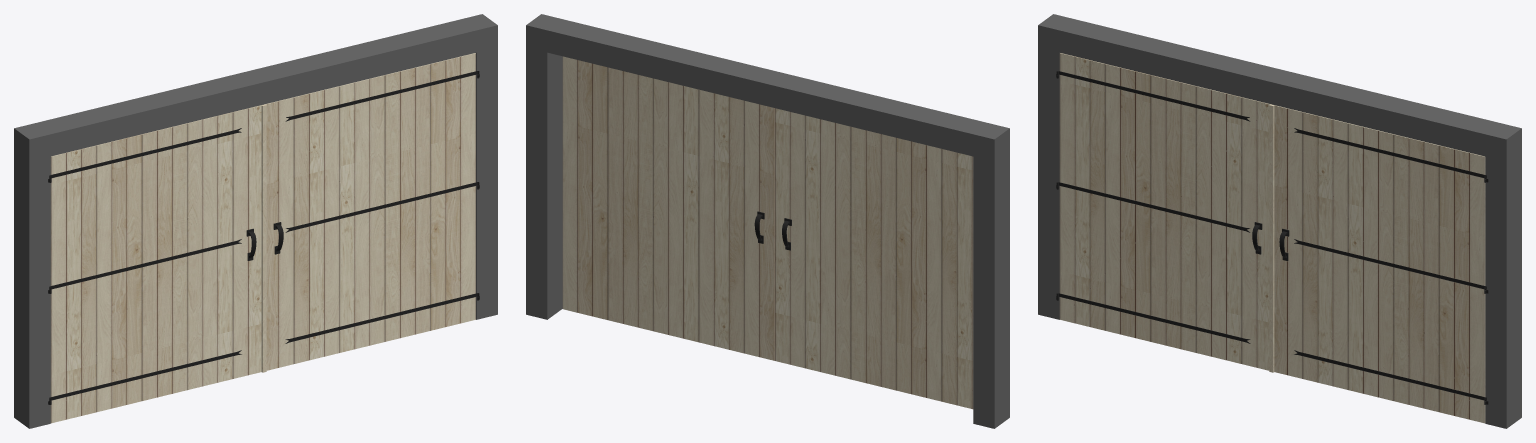
The model's file is sweethome3d-scopia-garage-door-293.glb.
3 renders of one model, left to right at view 1: azimuth 30°, elevation 25°; view 2: azimuth 150°, elevation 25°; view 3: azimuth 330°, elevation 25°, orthographic.
Visible parts, largest first — view 1: sweethome3d_opening_on_hinge_1_right-door_Cube.008, sweethome3d_opening_on_hinge_2_left-door_Cube.001, frame_Cube, sweethome3d_opening_on_hinge_1_large_hinges_Cube.009, sweethome3d_opening_on_hinge_2_large-hinges_Cube.007; view 2: sweethome3d_opening_on_hinge_1_right-door_Cube.008, sweethome3d_opening_on_hinge_2_left-door_Cube.001, frame_Cube; view 3: sweethome3d_opening_on_hinge_1_right-door_Cube.008, sweethome3d_opening_on_hinge_2_left-door_Cube.001, frame_Cube, sweethome3d_opening_on_hinge_2_large-hinges_Cube.007, sweethome3d_opening_on_hinge_1_large_hinges_Cube.009.
Boxes of the visible parts, box(x1,y1,x2,y2) form: sweethome3d_opening_on_hinge_1_right-door_Cube.008: box(261, 53, 475, 372); sweethome3d_opening_on_hinge_2_left-door_Cube.001: box(50, 105, 262, 423); frame_Cube: box(14, 14, 497, 428); sweethome3d_opening_on_hinge_1_large_hinges_Cube.009: box(285, 71, 479, 343); sweethome3d_opening_on_hinge_2_large-hinges_Cube.007: box(49, 128, 241, 401); sweethome3d_opening_on_hinge_1_right-door_Cube.008: box(562, 56, 774, 360); sweethome3d_opening_on_hinge_2_left-door_Cube.001: box(775, 108, 973, 409); frame_Cube: box(526, 14, 1009, 428); sweethome3d_opening_on_hinge_1_right-door_Cube.008: box(1269, 104, 1485, 423); sweethome3d_opening_on_hinge_2_left-door_Cube.001: box(1059, 53, 1272, 370); frame_Cube: box(1038, 14, 1521, 428); sweethome3d_opening_on_hinge_2_large-hinges_Cube.007: box(1056, 71, 1250, 343); sweethome3d_opening_on_hinge_1_large_hinges_Cube.009: box(1294, 128, 1486, 401).
Size of the model in its own units: 441 by 261 by 32.1.
Materials: 4 (1 with a texture image).
